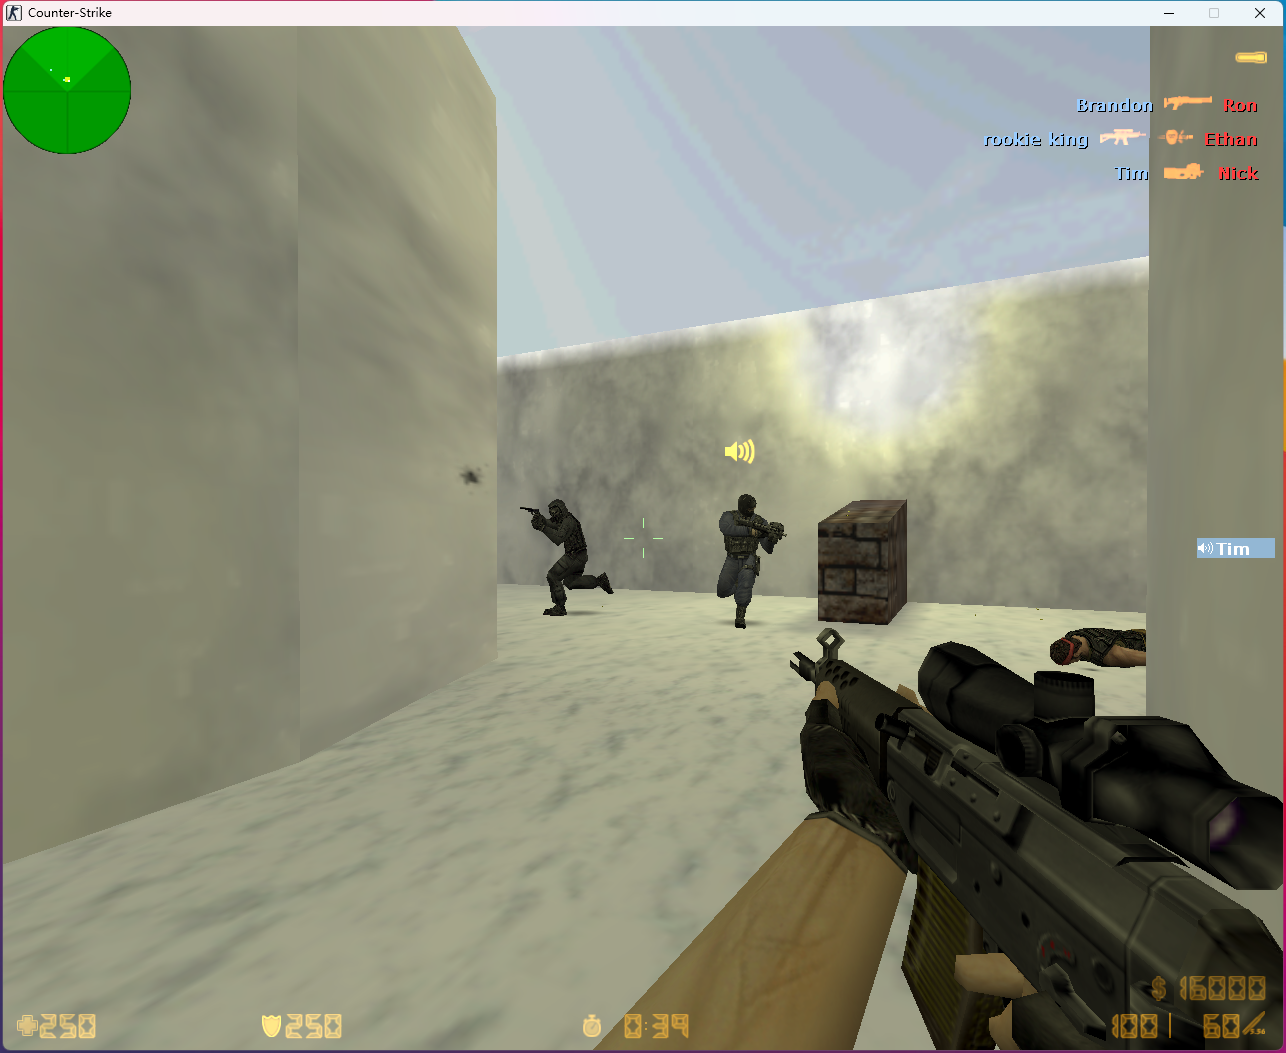C: (526, 499, 613, 616), (717, 494, 771, 630)
dead: (1046, 622, 1147, 669)
